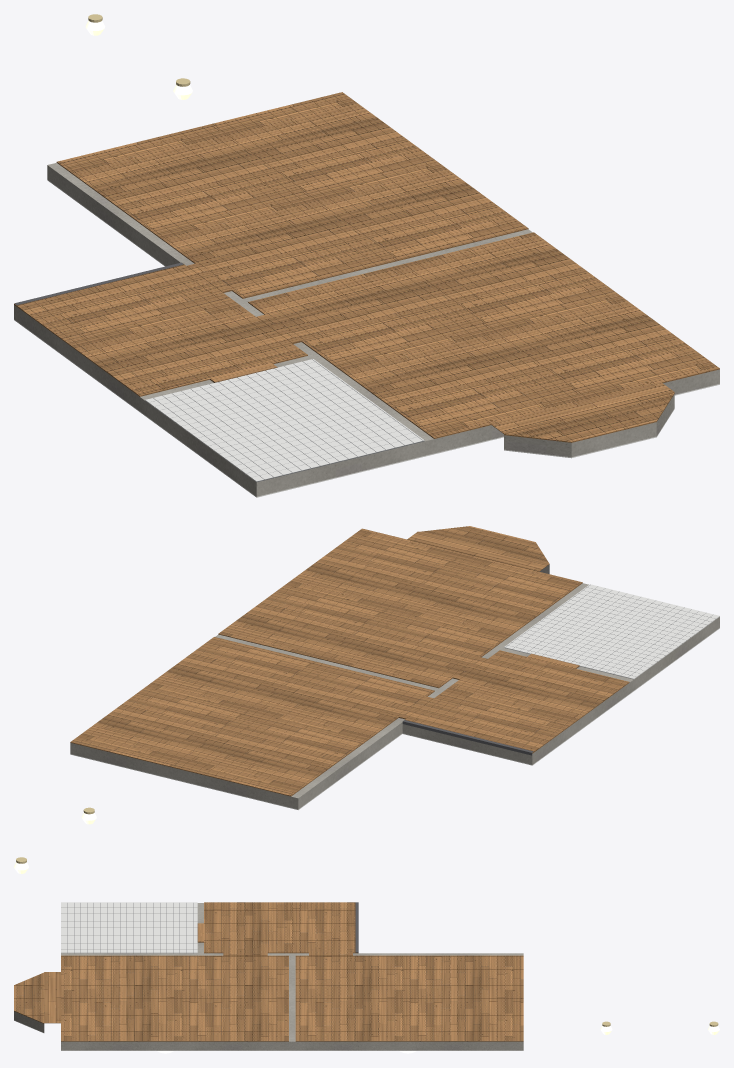
Rendered from slab_1_l.glb.
The picture shows the model from 3 angles, top to bottom: view 1: azimuth 30°, elevation 25°; view 2: azimuth 150°, elevation 25°; view 3: azimuth 270°, elevation 25°; orthographic projection. The views are drawn at different scales.
Visible parts, largest first — view 1: slab_1_l_wood, slab_1_l_tile_hex, slab_1_l_conc_s, slab_1_l_grille, slab_1_l_ceil; view 2: slab_1_l_wood, slab_1_l_tile_hex, slab_1_l_conc_s, slab_1_l_ceil, slab_1_l_dark, slab_1_l_grille; view 3: slab_1_l_wood, slab_1_l_tile_hex, slab_1_l_conc_s, slab_1_l_grille, slab_1_l_ceil.
Part boxes in pixels (x1,y1,x2,y2): slab_1_l_wood: [14, 92, 719, 442]; slab_1_l_tile_hex: [145, 359, 424, 481]; slab_1_l_conc_s: [14, 163, 719, 496]; slab_1_l_grille: [154, 359, 424, 482]; slab_1_l_ceil: [14, 179, 719, 497]; slab_1_l_wood: [70, 526, 629, 796]; slab_1_l_tile_hex: [504, 584, 719, 679]; slab_1_l_conc_s: [70, 564, 719, 809]; slab_1_l_ceil: [70, 628, 719, 809]; slab_1_l_dark: [402, 720, 533, 755]; slab_1_l_grille: [505, 585, 715, 677]; slab_1_l_wood: [14, 902, 523, 1041]; slab_1_l_tile_hex: [61, 902, 197, 953]; slab_1_l_conc_s: [14, 903, 523, 1050]; slab_1_l_grille: [67, 903, 193, 952]; slab_1_l_ceil: [14, 1020, 523, 1050].
Size of the model in its own units: 5.95 by 1.07 by 12.81.
Materials: 10 (4 with a texture image).
